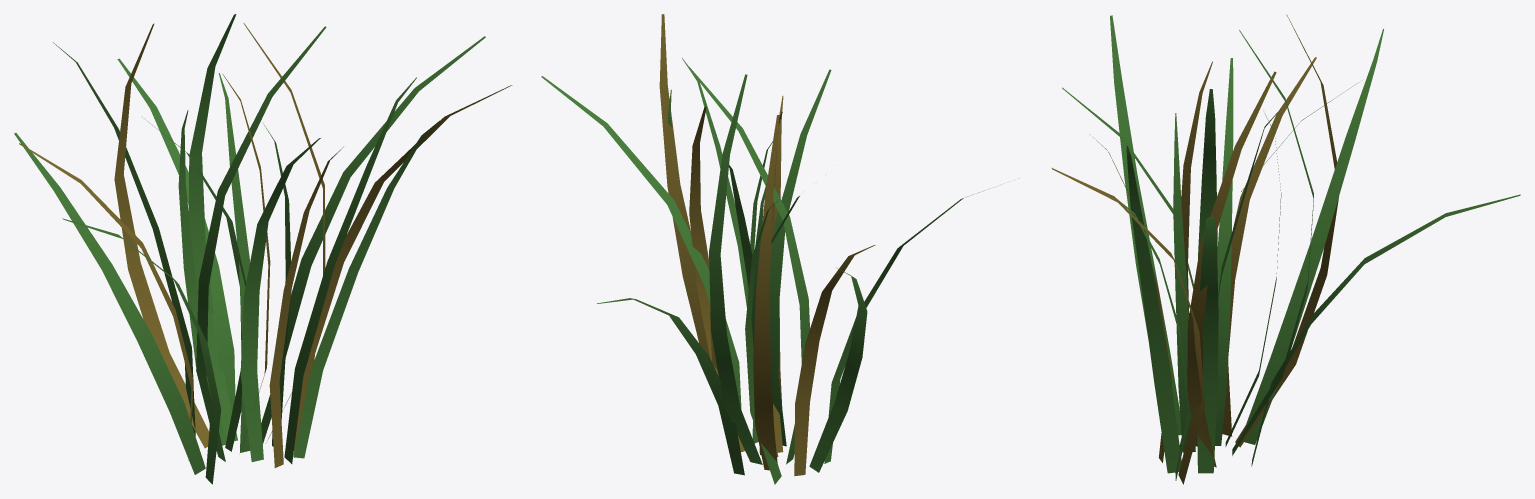
File: Leaves_003.fbx
3 views of the same model, side by side, from view 1: azimuth 30°, elevation 25°; view 2: azimuth 150°, elevation 25°; view 3: azimuth 270°, elevation 25° (orthographic). The views are drawn at different scales.
Parts seen in each view (by area): view 1: Leaves.003; view 2: Leaves.003; view 3: Leaves.003.
Boxes of the visible parts, x1=… form: Leaves.003: x1=14, y1=14, x2=512, y2=484; Leaves.003: x1=541, y1=14, x2=994, y2=484; Leaves.003: x1=1051, y1=14, x2=1520, y2=484.
Bounding box in the file's own units: 33.61 × 29.4 × 28.72.
